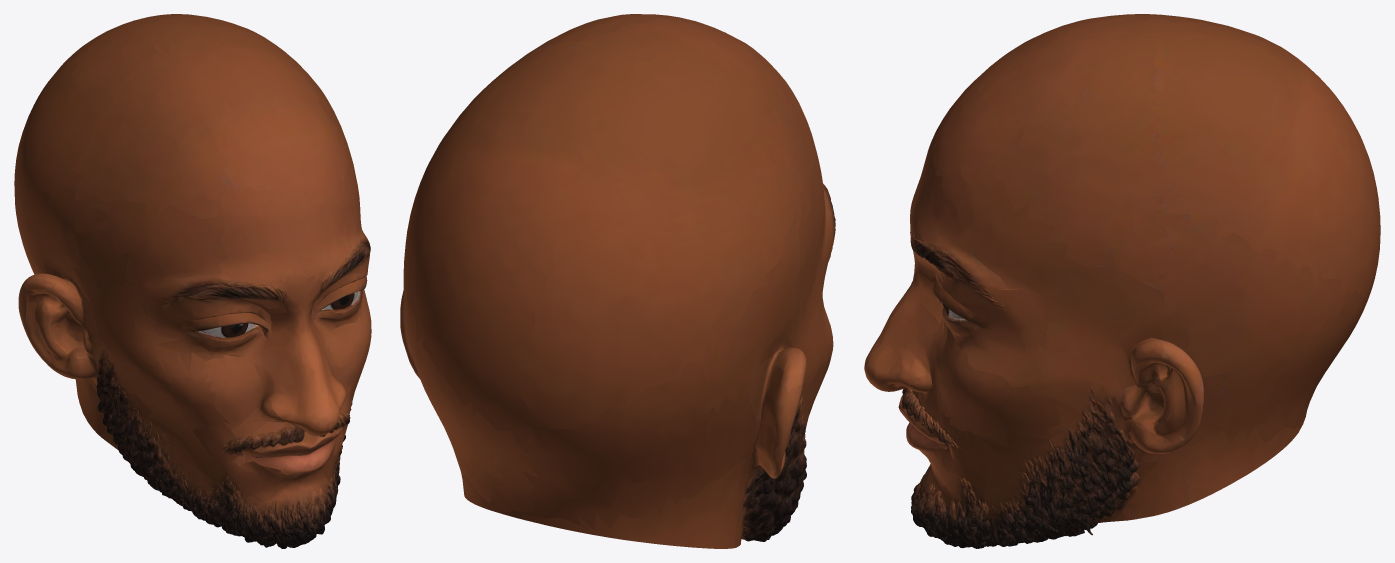
File: head.glb
The picture shows the model from 3 angles, left to right: view 1: azimuth 30°, elevation 25°; view 2: azimuth 150°, elevation 25°; view 3: azimuth 270°, elevation 25°; orthographic projection. The views are drawn at different scales.
Bounding box in the file's own units: 1.61 × 2.15 × 2.
Materials: 1 (1 with a texture image).
